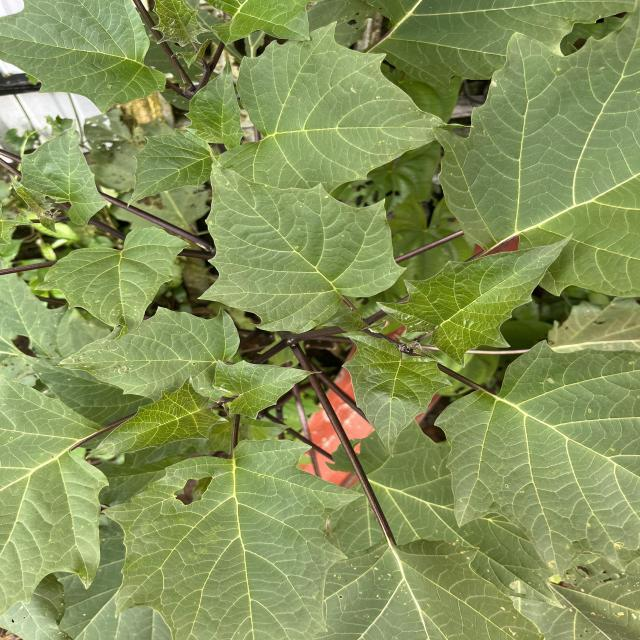Datura metal linn: (99, 437, 368, 640), (216, 17, 478, 197), (195, 133, 410, 337), (374, 230, 576, 369), (32, 223, 196, 343), (339, 333, 455, 459), (84, 373, 230, 463), (210, 356, 324, 422), (125, 125, 212, 209), (181, 54, 249, 150)
